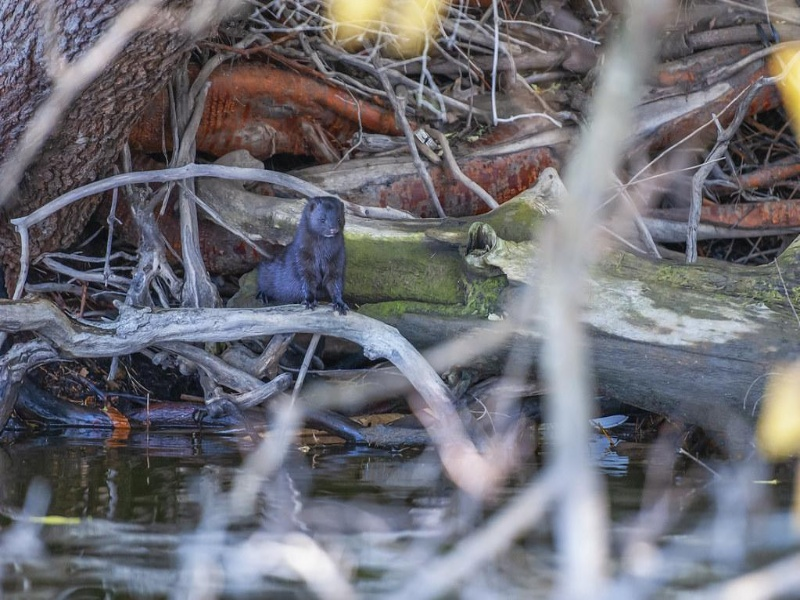minkish: (255, 186, 352, 320)
